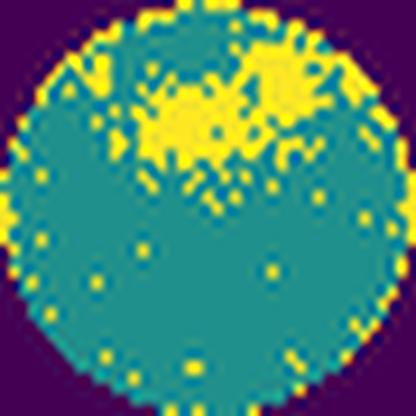Loc: (131, 40, 330, 181)
